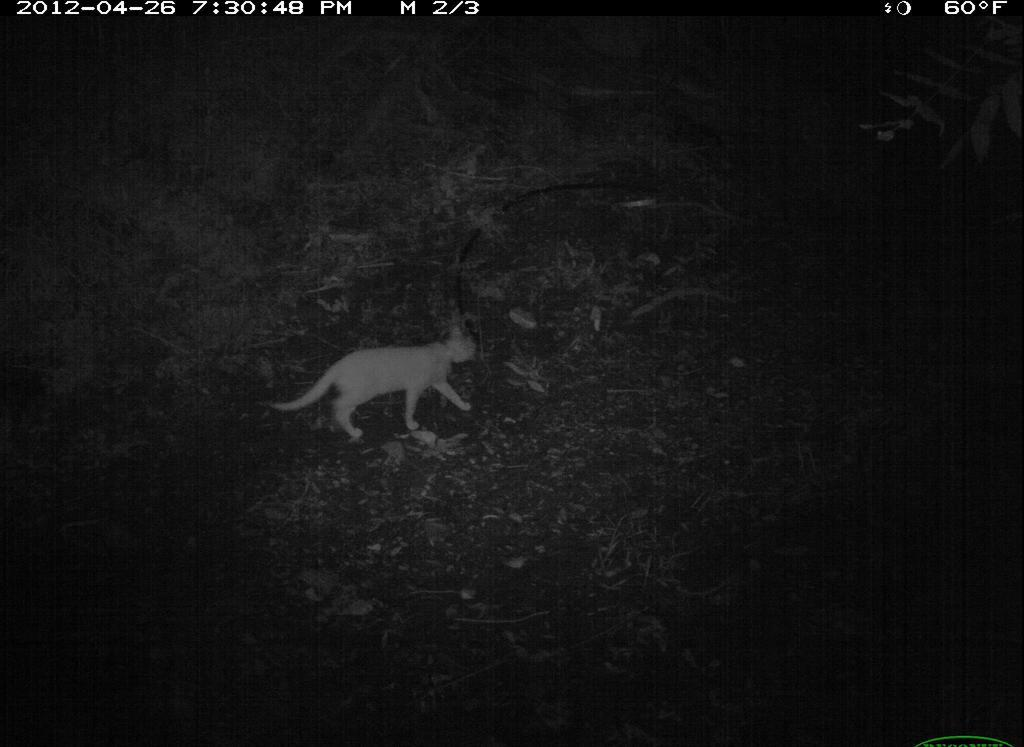cat: (250, 321, 523, 459)
